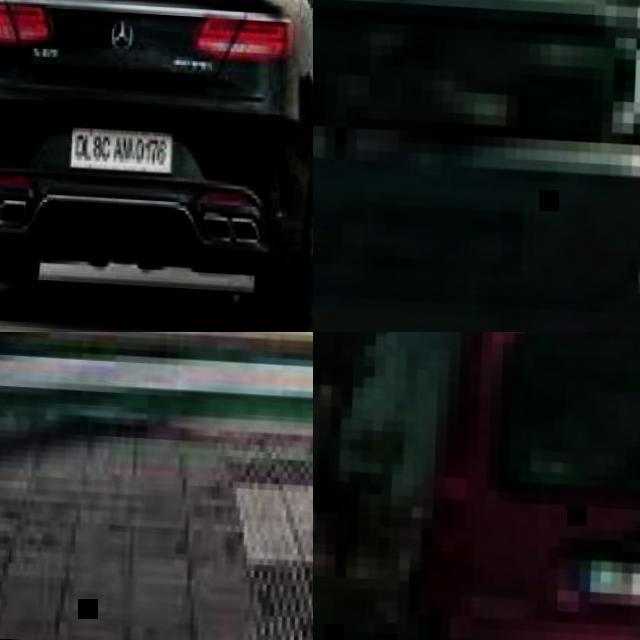car: (3, 0, 313, 276)
